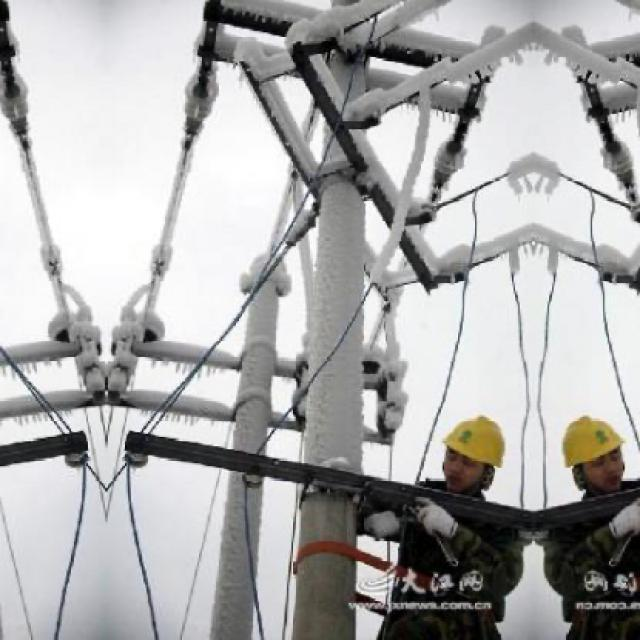helmet: (558, 404, 637, 492), (429, 404, 507, 492)
